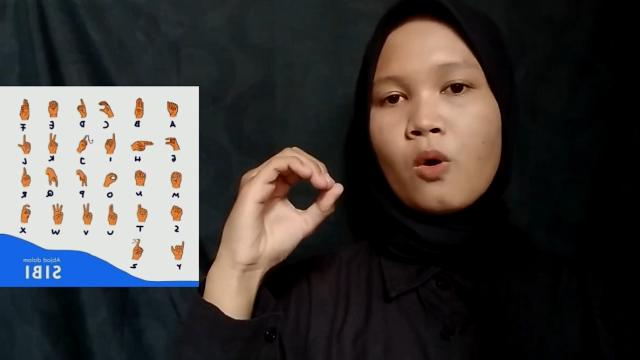O: (214, 143, 348, 271)
